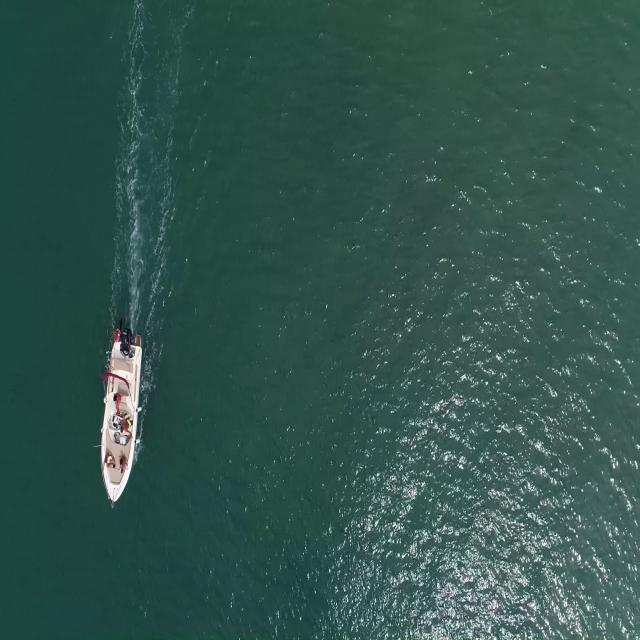boat: (100, 338, 143, 508)
life_buoy: (112, 328, 121, 342)
person: (102, 450, 116, 476), (119, 418, 135, 440), (112, 390, 122, 414), (119, 455, 129, 474)
